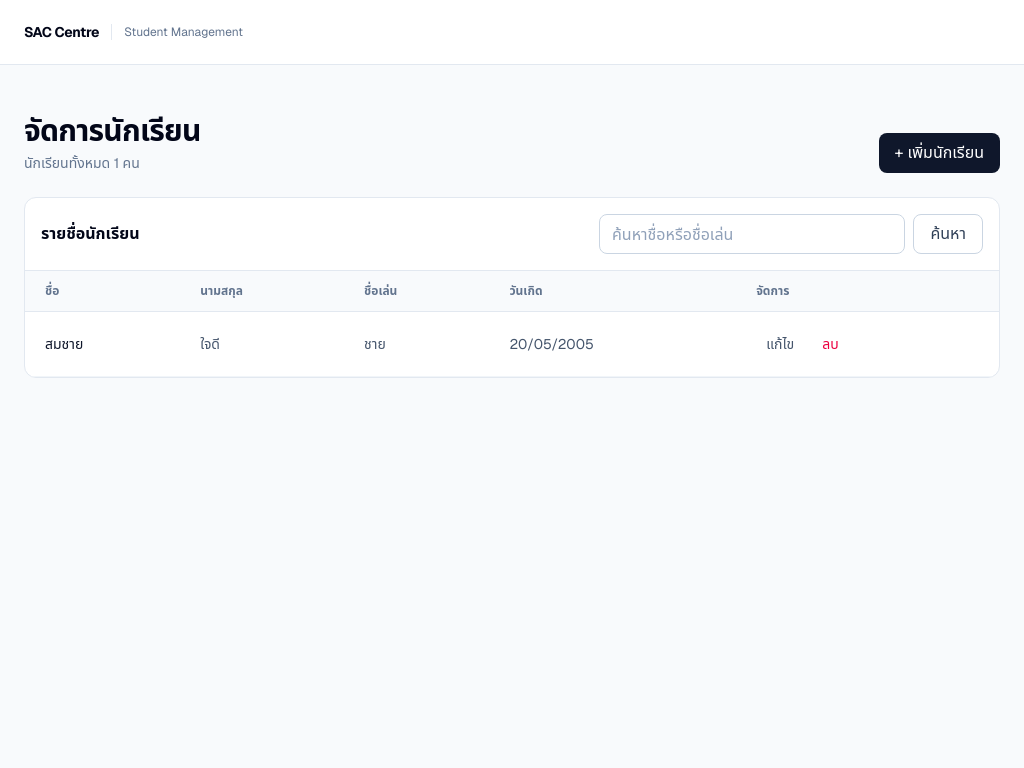
it: StudentsScreen › deletes only after confirmation and reloads the list
Click the button with aria-label "ลบ สมชาย ใจดี": [831, 344] box [812,328,849,360]
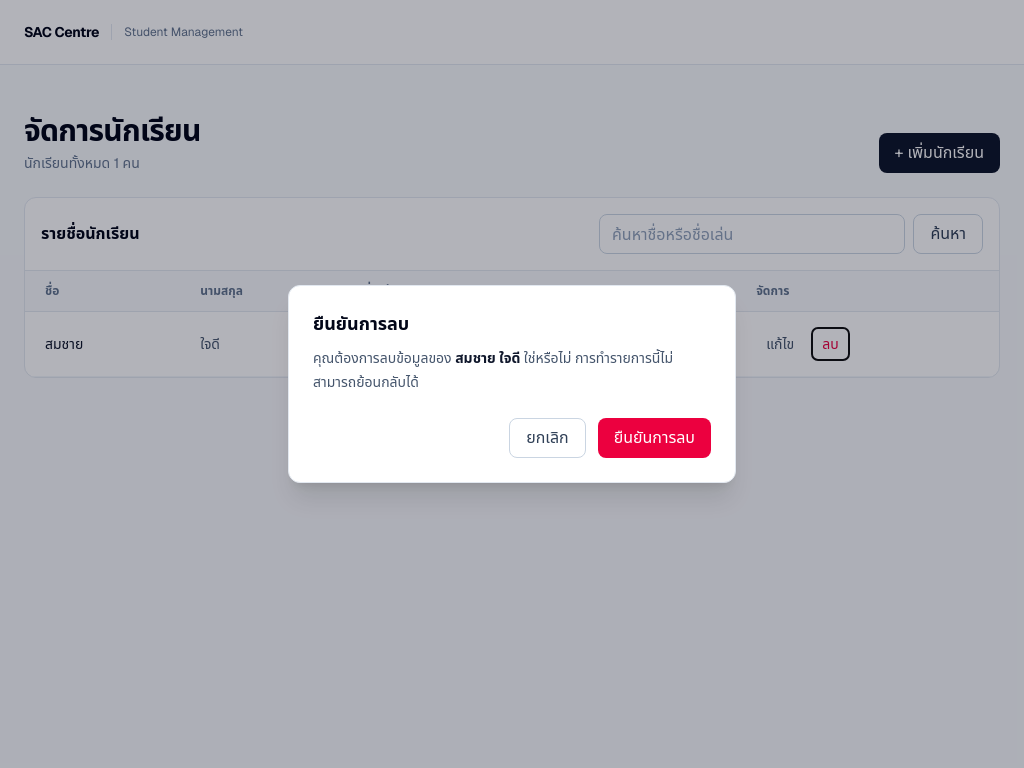
Click the button "ยืนยันการลบ": [654, 438] box [598,418,711,458]
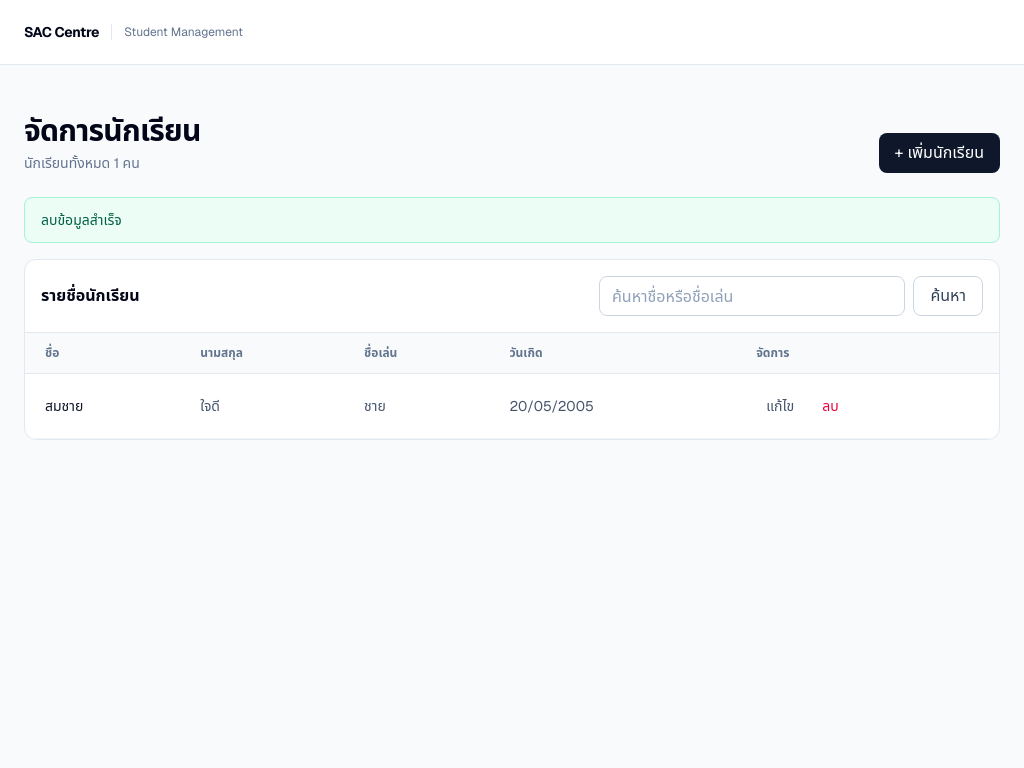
Expected: the message reads "ลบข้อมูลสำเร็จ", [41,211,122,229]
